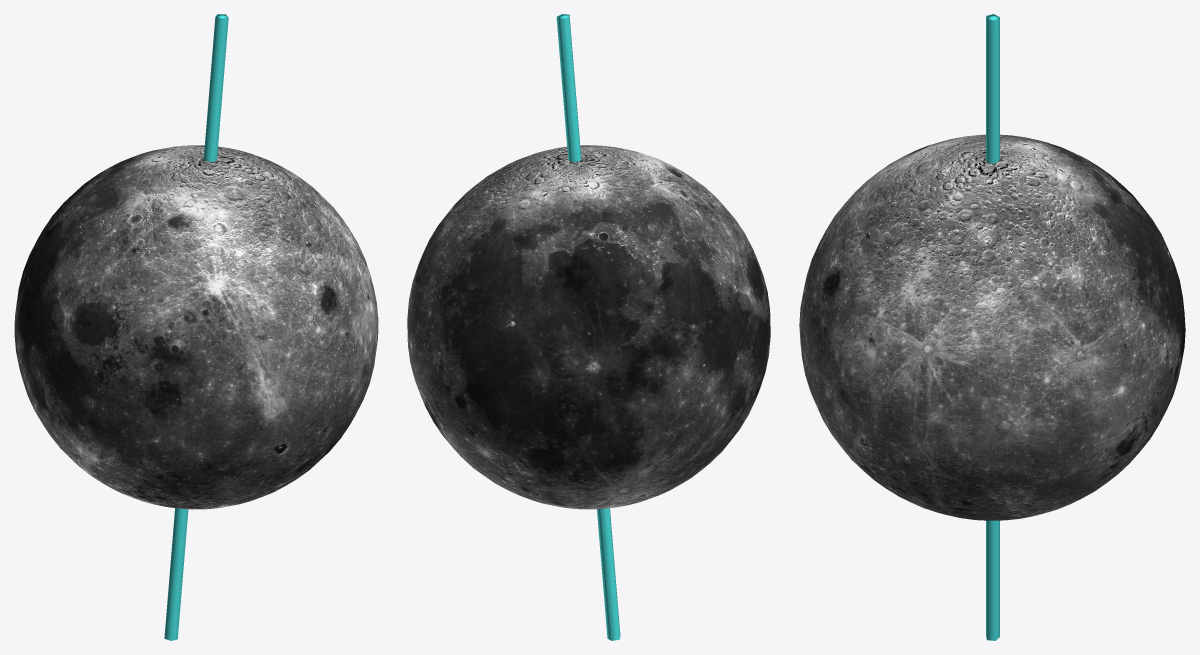
Rendered from moon_center.fbx.
3 renders of one model, left to right at view 1: azimuth 30°, elevation 25°; view 2: azimuth 150°, elevation 25°; view 3: azimuth 270°, elevation 25°, orthographic. The views are drawn at different scales.
Visible parts, largest first — view 1: moon, moon_axis; view 2: moon, moon_axis; view 3: moon, moon_axis.
Boxes of the visible parts, box(x1,y1,x2,y2) form: moon: box(14, 145, 378, 509); moon_axis: box(164, 14, 228, 640); moon: box(407, 145, 770, 509); moon_axis: box(556, 14, 620, 640); moon: box(799, 134, 1185, 520); moon_axis: box(986, 14, 999, 640).
Size of the model in its own units: 221 by 410 by 222.
